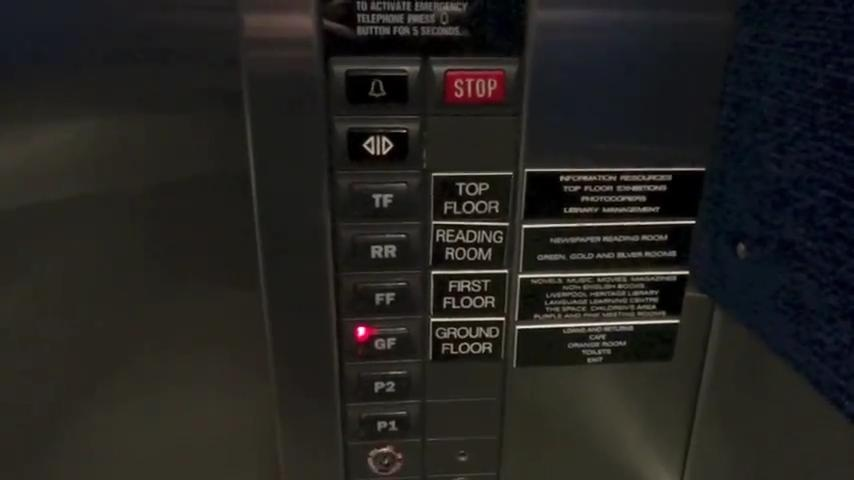FF: (335, 270, 429, 316)
GF: (338, 315, 429, 363)
P1: (341, 400, 426, 443)
P2: (339, 359, 427, 403)
RR: (330, 217, 429, 273)
TF: (328, 170, 428, 223)
alarm: (328, 55, 426, 115)
bt_keyhole: (344, 439, 425, 480)
open: (329, 115, 426, 170)
text_stop: (426, 56, 524, 116)
